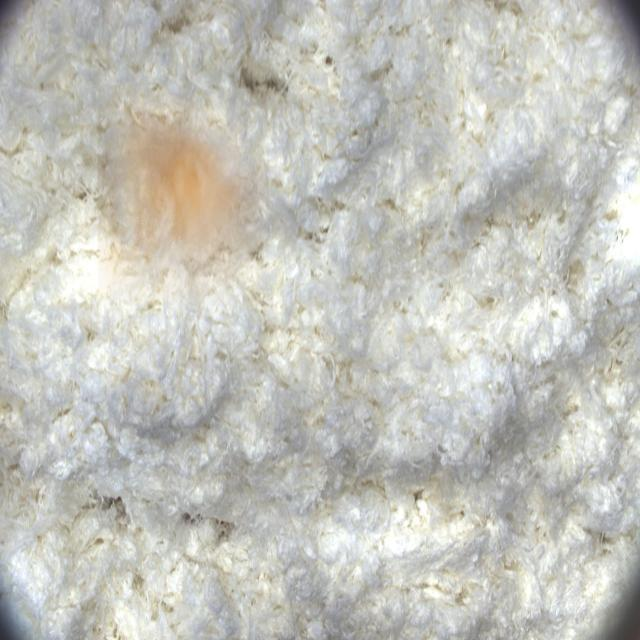dust: (98, 92, 269, 306)
